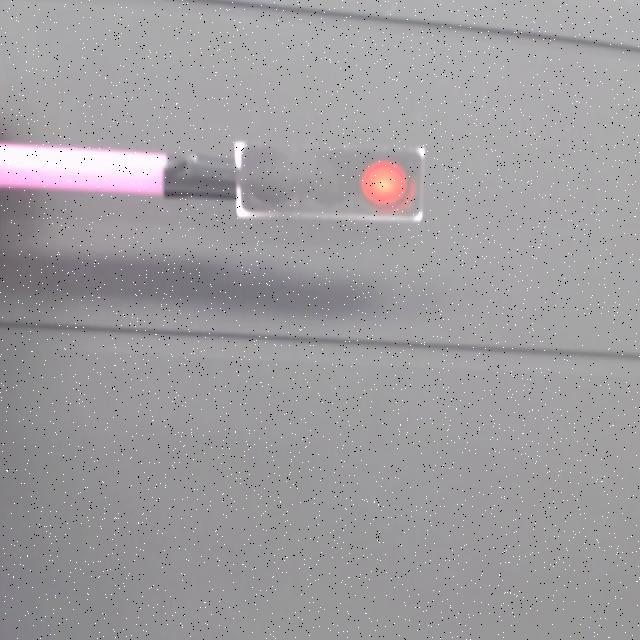traffic light: (235, 145, 425, 223)
